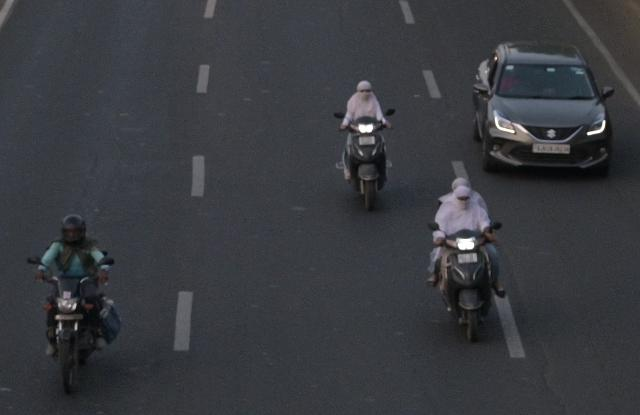With Helmet: (57, 212, 89, 244)
Without Helmet: (453, 186, 473, 210), (356, 80, 374, 100)
